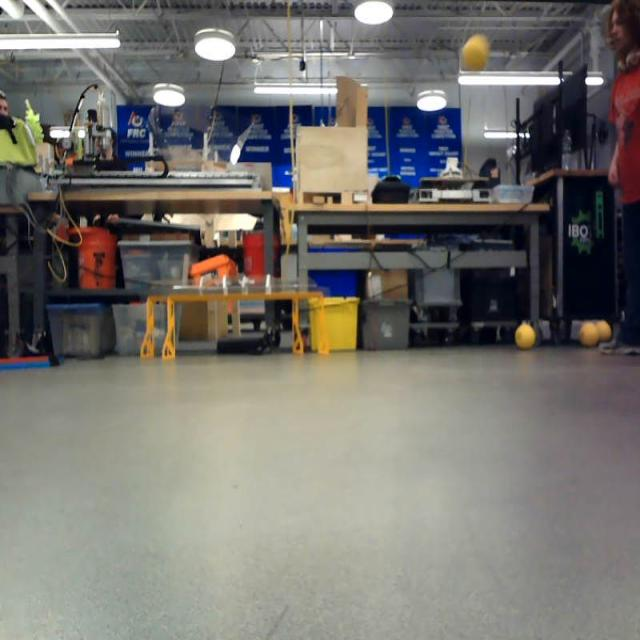Fuel: (463, 37, 488, 71), (515, 324, 535, 349), (580, 322, 598, 346), (594, 321, 612, 344)
